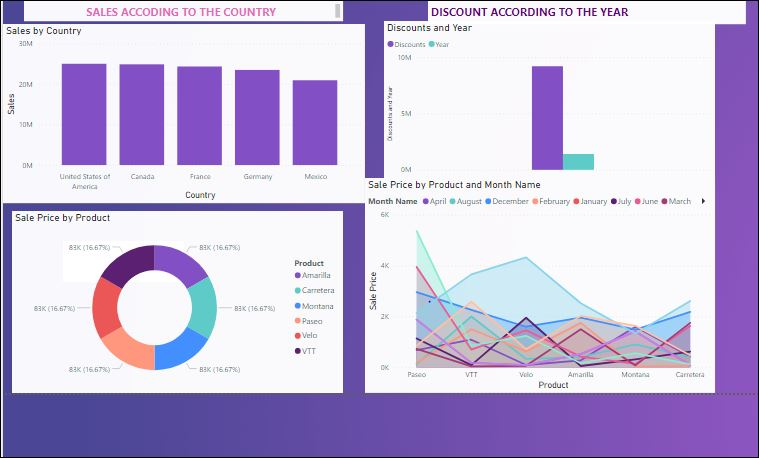

This screenshot's page, from the dashboard's own definition file:
{"tool":"powerbi","page":{"name":"Page 1","canvas":[1280,720],"ordinal":0},"visuals":[{"type":"clusteredColumnChart","fields":{"Y":["Sum(Sheet1. Sales)"],"Category":["Sheet1.Country"]},"box":[0,100.8,608.1,300.7],"z":0},{"type":"textbox","box":[35.3,62.2,535.9,33.6],"z":1},{"type":"clusteredColumnChart","fields":{"Y":["Sum(Sheet1.Discounts)","Sum(Sheet1.Year)"]},"box":[640,95.7,556,263.7],"z":2},{"type":"textbox","box":[100.8,465.3,203.3,68.9],"z":3},{"type":"textbox","box":[713.9,62.2,534.2,38.6],"z":4},{"type":"donutChart","fields":{"Category":["Sheet1.Product"],"Y":["Sum(financials.Sale Price)"]},"box":[15.1,414.9,556,305.7],"z":5},{"type":"areaChart","fields":{"Category":["financials.Product"],"Series":["financials.Month Name"],"Y":["Sum(financials.Sale Price)"]},"box":[608.1,359.5,587.9,361.2],"z":6}]}

Visuals, with their boxes on the page's 1280x720 design canvas (x1, y1, x2, y2). These are canvas units, not pixel positions in the 759x458 screenshot, which may show the page scaled, cropped or inside an application window:
clusteredColumnChart - Sum(Sheet1. Sales) x Sheet1.Country: [0,101,608,402]
textbox: [35,62,571,96]
clusteredColumnChart - Sum(Sheet1.Discounts) x Sum(Sheet1.Year): [640,96,1196,359]
textbox: [101,465,304,534]
textbox: [714,62,1248,101]
donutChart - Sheet1.Product x Sum(financials.Sale Price): [15,415,571,721]
areaChart - financials.Product x financials.Month Name: [608,360,1196,721]
